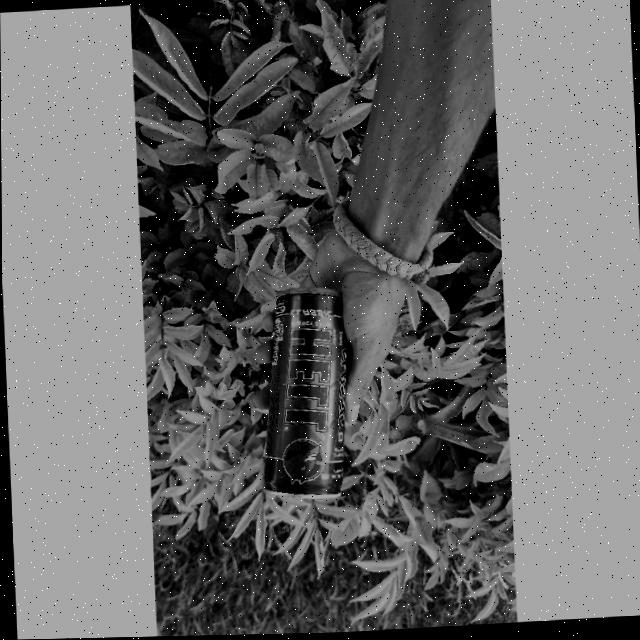Hell Classic: (247, 281, 357, 508)
